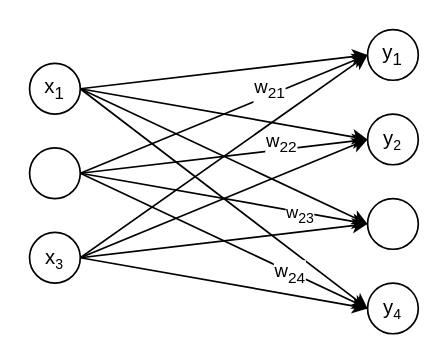
The diagram is 448 pixels wide and 363 high, and some of its shapes have lost their labels. Here are the shapes that lost their labels. From the top down, the centre of each, then its label:
At pixel 54 172: "x 2".
At pixel 392 223: "y 3".
